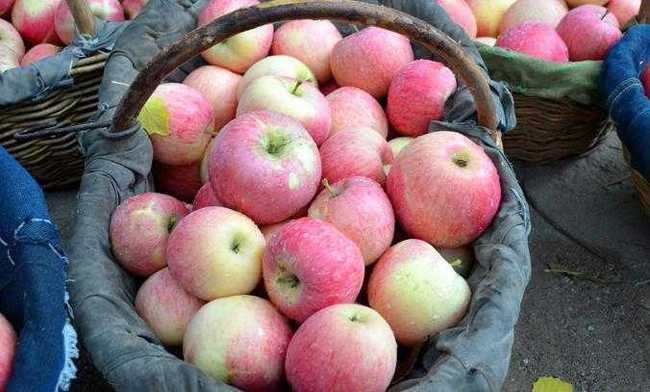apple: (387, 131, 501, 247), (203, 111, 320, 224), (362, 238, 470, 343), (263, 216, 366, 320), (180, 294, 294, 387), (284, 303, 397, 390), (164, 206, 264, 299), (310, 175, 396, 267), (106, 189, 188, 277), (328, 24, 413, 97), (385, 58, 462, 135), (139, 82, 213, 162), (133, 269, 206, 346), (320, 129, 396, 188), (268, 20, 340, 82), (180, 63, 242, 127), (199, 23, 273, 73), (553, 5, 619, 61), (494, 16, 568, 61), (52, 1, 127, 45)
